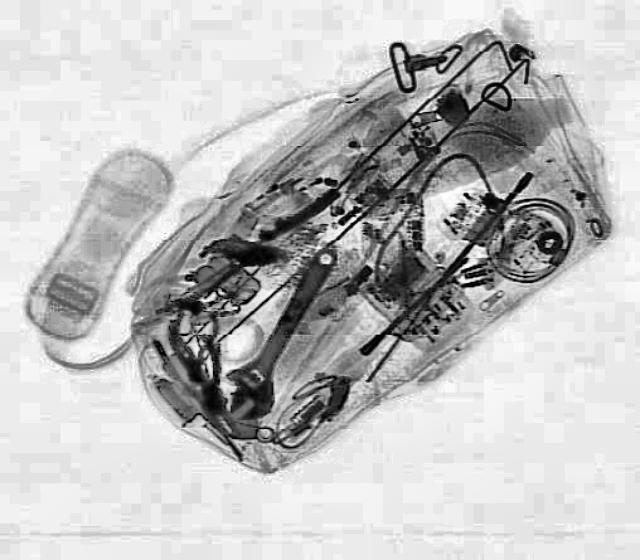Pliers: (160, 311, 240, 421)
Wrench: (204, 236, 356, 426)
